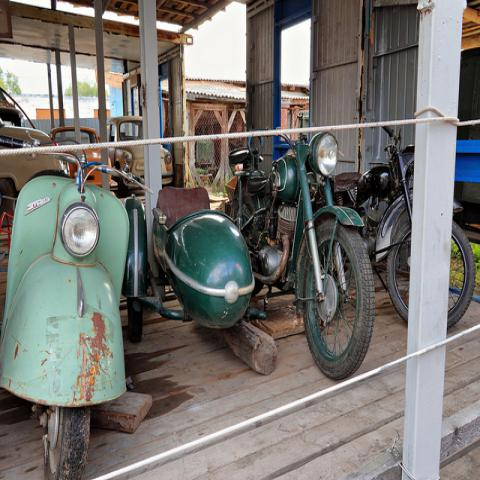car: (0, 124, 66, 220), (107, 115, 174, 185), (52, 127, 112, 187)
motorcycle: (0, 147, 140, 479), (224, 107, 376, 383), (338, 126, 476, 330)
truck: (0, 117, 70, 224), (107, 114, 174, 193), (0, 87, 100, 139)
